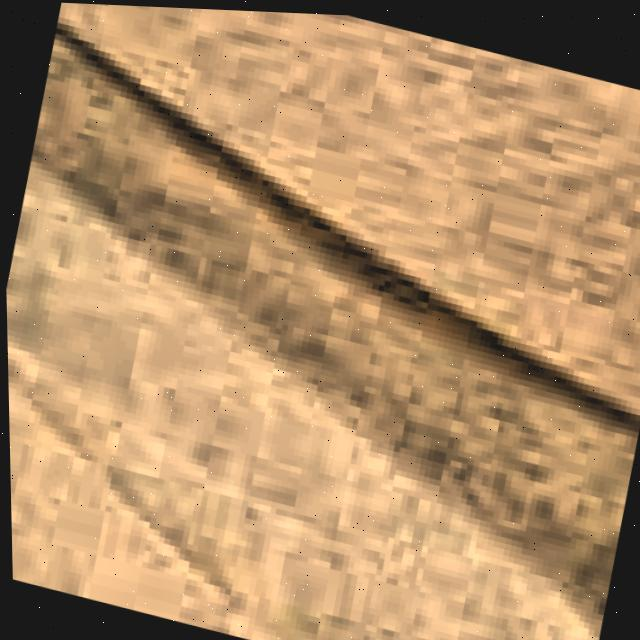paper: (5, 2, 640, 640)
